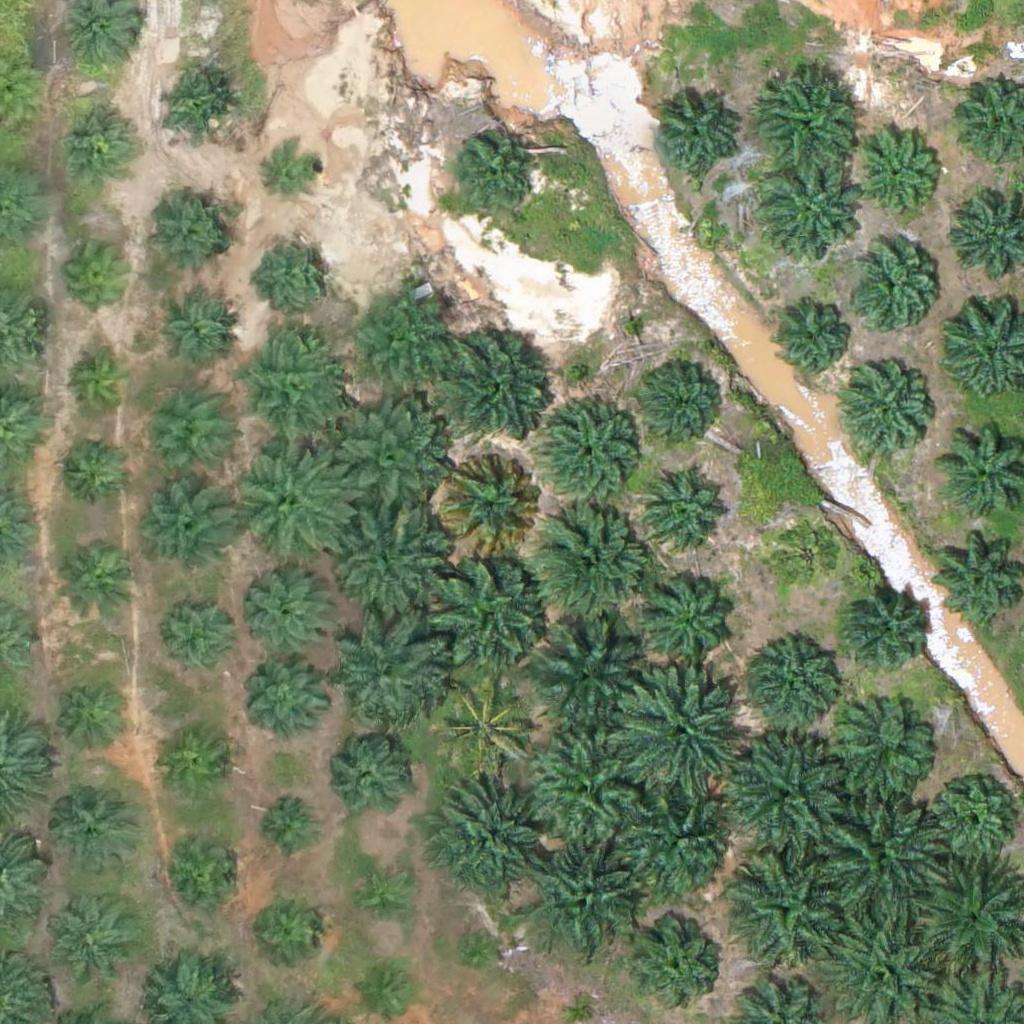Kelapa_Sawit: (229, 434, 354, 560), (432, 319, 557, 445), (426, 553, 551, 679), (329, 500, 454, 626), (326, 606, 451, 732), (528, 495, 653, 621), (524, 726, 649, 852), (431, 773, 556, 899), (612, 669, 737, 795), (621, 788, 746, 914), (717, 733, 842, 859), (719, 848, 844, 974), (818, 791, 943, 917), (517, 832, 642, 958), (321, 399, 446, 524), (527, 611, 652, 736), (427, 667, 540, 781), (434, 448, 547, 561), (824, 701, 937, 814), (346, 282, 458, 396), (535, 398, 647, 512), (236, 334, 348, 447), (243, 559, 343, 660), (761, 161, 861, 262), (757, 68, 857, 169), (636, 563, 736, 664), (739, 638, 839, 739), (625, 915, 725, 1016), (135, 390, 235, 490), (149, 195, 237, 283), (929, 776, 1017, 864), (47, 892, 135, 980), (241, 653, 329, 741), (853, 133, 941, 221), (850, 246, 938, 334), (842, 369, 930, 457), (652, 93, 740, 181), (841, 580, 928, 669), (153, 292, 240, 380), (451, 134, 538, 222), (770, 293, 857, 381), (144, 480, 231, 568), (47, 785, 134, 873), (321, 733, 408, 821), (644, 463, 731, 551), (639, 358, 726, 446), (157, 70, 232, 146), (60, 545, 135, 621), (55, 434, 130, 510), (61, 346, 136, 422), (259, 233, 334, 309), (160, 837, 235, 913), (770, 516, 845, 592), (58, 104, 133, 179), (64, 237, 139, 312), (57, 681, 132, 756), (157, 721, 232, 796), (166, 601, 241, 676), (248, 895, 323, 970), (351, 868, 414, 931), (264, 142, 326, 205), (258, 791, 320, 854), (450, 924, 500, 974)
